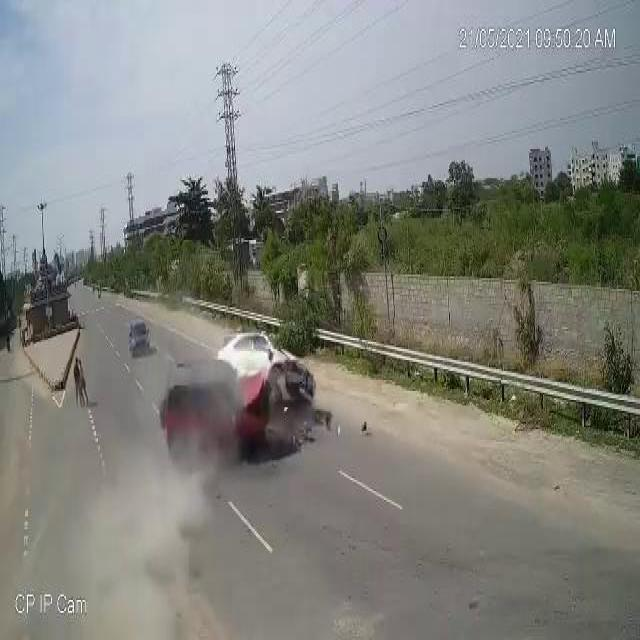accident: (158, 318, 320, 482)
